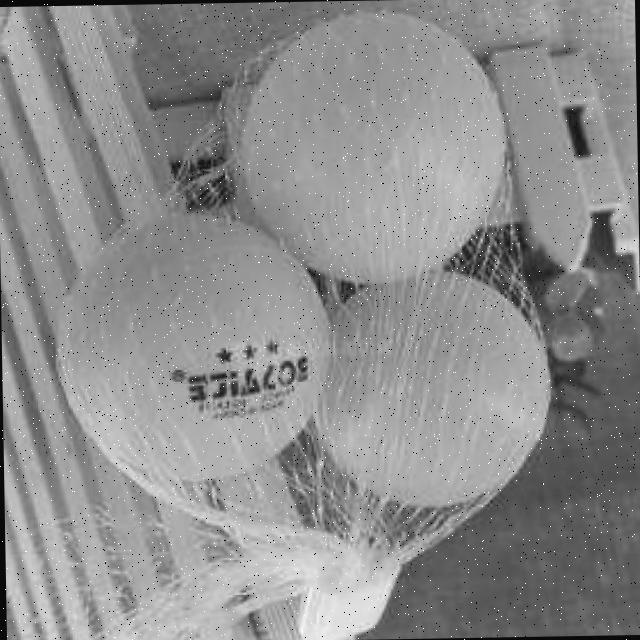ping-pong-ball: (45, 212, 330, 492), (237, 13, 508, 291), (305, 271, 551, 515)
